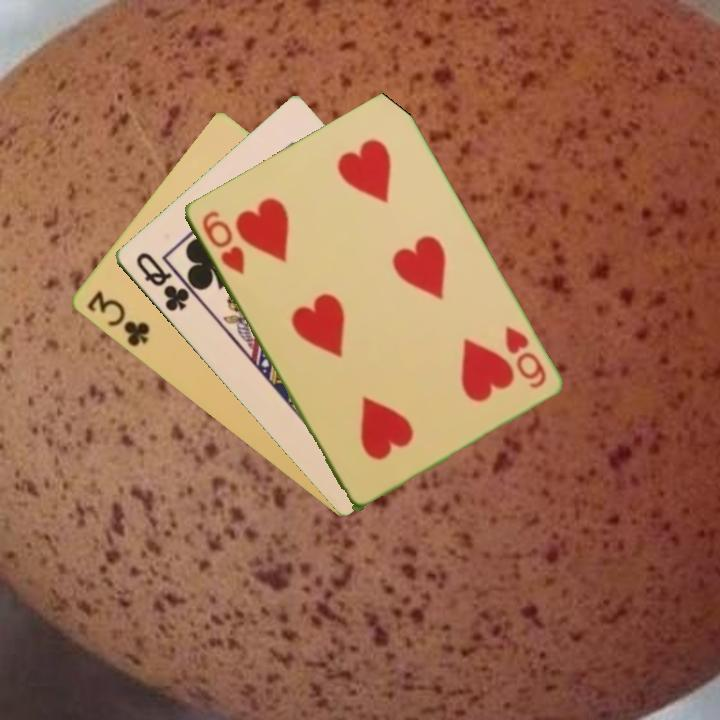3c: (83, 287, 153, 350)
6h: (198, 207, 247, 278), (500, 322, 549, 392)
Qc: (132, 249, 192, 315)
